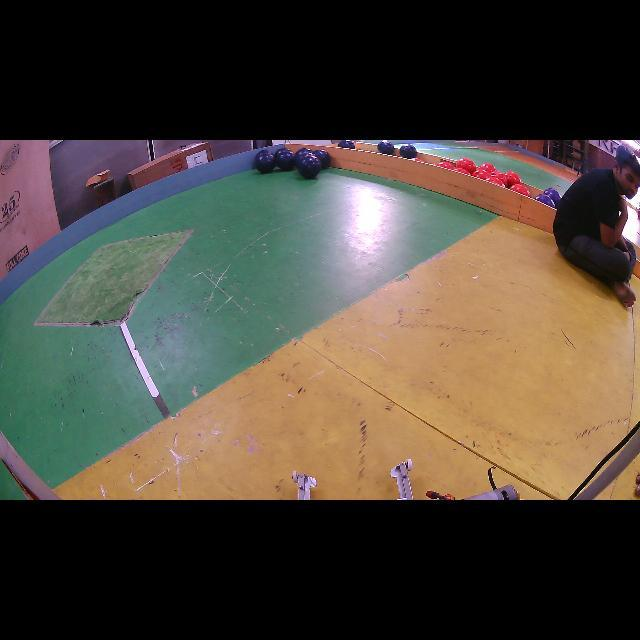B: (298, 155, 321, 179), (255, 154, 276, 174), (276, 150, 295, 171), (314, 149, 330, 168), (295, 151, 313, 166), (400, 144, 418, 159), (378, 140, 394, 155), (338, 140, 355, 149), (274, 148, 289, 158), (295, 148, 312, 156), (258, 149, 272, 155)
P: (544, 188, 561, 205), (535, 194, 555, 208)
R: (456, 158, 476, 174), (491, 171, 508, 188), (504, 171, 521, 187), (510, 184, 531, 196), (472, 170, 491, 180), (486, 176, 504, 186), (436, 161, 455, 170), (479, 162, 496, 172), (455, 168, 470, 175)
